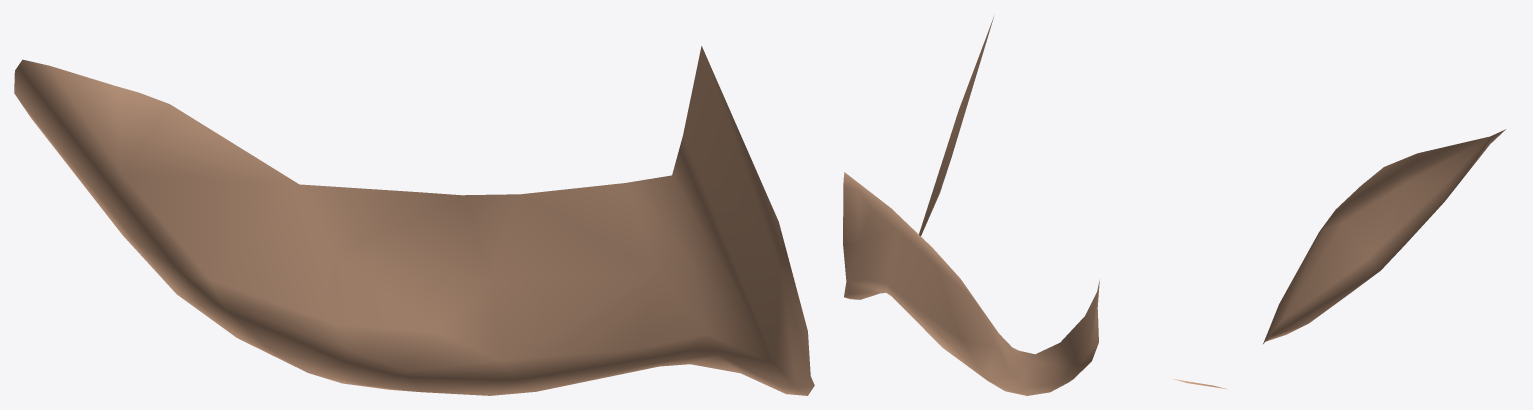
File: lobule-of-auricle-r.glb
3 views of the same model, side by side, from view 1: azimuth 30°, elevation 25°; view 2: azimuth 150°, elevation 25°; view 3: azimuth 270°, elevation 25° (orthographic). The views are drawn at different scales.
Visible parts, largest first — view 1: Lobule of auricle.r; view 2: Lobule of auricle.r; view 3: Lobule of auricle.r.
Boxes of the visible parts, left/top/right/bottom form: Lobule of auricle.r: left=14, top=46, right=814, bottom=395; Lobule of auricle.r: left=843, top=17, right=1099, bottom=395; Lobule of auricle.r: left=1173, top=129, right=1505, bottom=389.
Size of the model in its own units: 0.0235 by 0.0161 by 0.0211.
